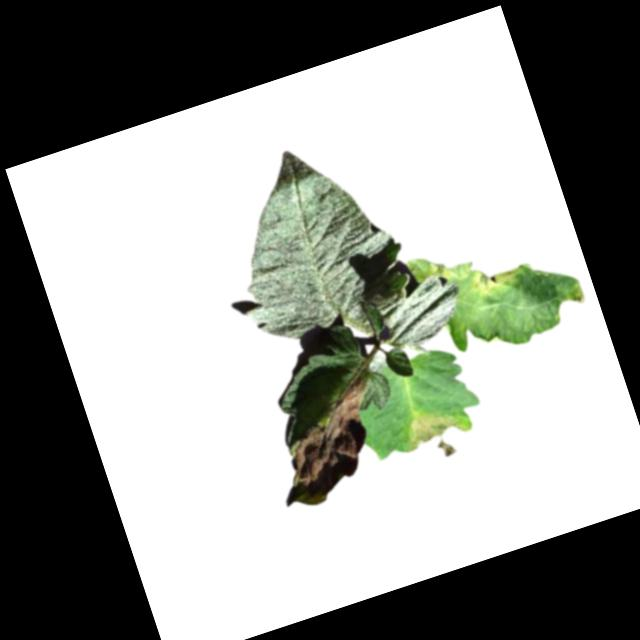Late_blight: (254, 373, 399, 514), (400, 395, 473, 466), (406, 242, 473, 290), (469, 256, 528, 299), (568, 286, 588, 308)
healthy: (200, 111, 471, 393)
